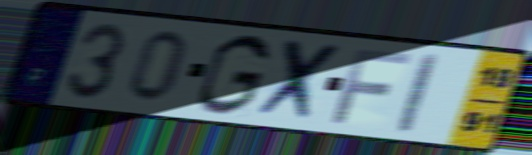0: (124, 29, 194, 105)
3: (64, 20, 129, 101)
F: (328, 47, 416, 127)
G: (194, 31, 274, 118)
I: (394, 50, 442, 136)
X: (249, 36, 346, 126)
